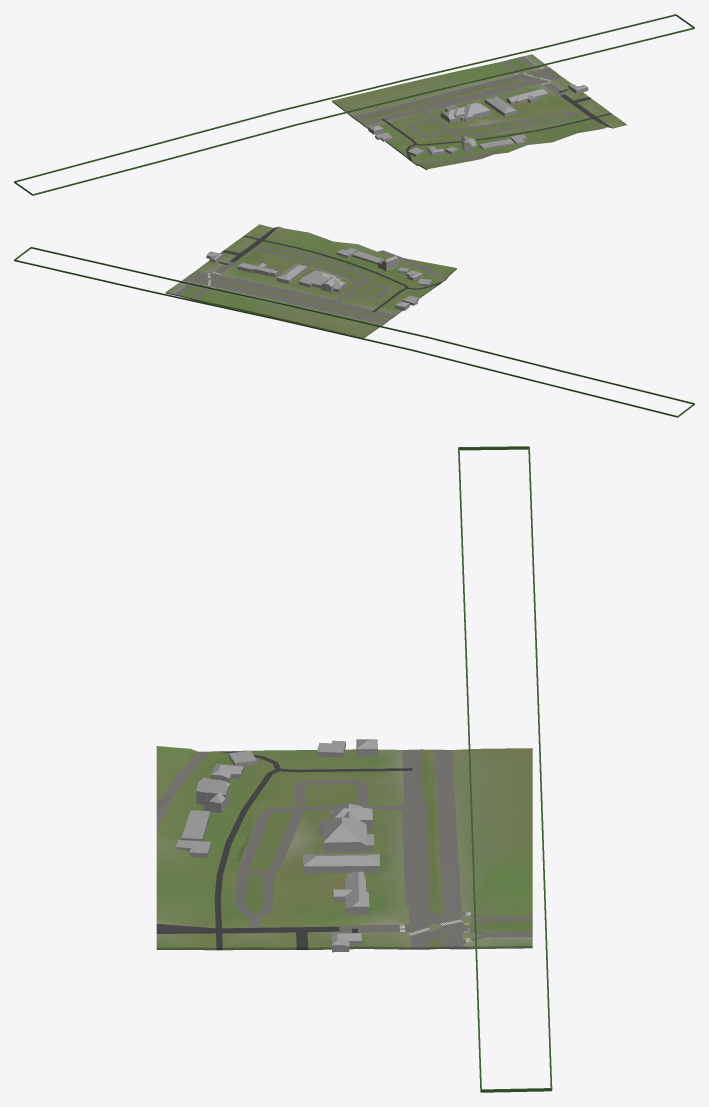
3 views of the same model, one above another, from view 1: azimuth 30°, elevation 25°; view 2: azimuth 150°, elevation 25°; view 3: azimuth 270°, elevation 25° (orthographic). The views are drawn at different scales.
Parts seen in each view (by area): view 1: D-0-4.L0:utd:matte, D-0-4.L0:utd:matte:flat; view 2: D-0-4.L0:utd:matte, D-0-4.L0:utd:matte:flat; view 3: D-0-4.L0:utd:matte, D-0-4.L0:utd:matte:flat.
Part boxes in pixels (x1,y1,x2,y2): D-0-4.L0:utd:matte: [332, 54, 626, 170]; D-0-4.L0:utd:matte:flat: [14, 14, 694, 195]; D-0-4.L0:utd:matte: [165, 224, 456, 338]; D-0-4.L0:utd:matte:flat: [14, 247, 694, 417]; D-0-4.L0:utd:matte: [156, 746, 532, 950]; D-0-4.L0:utd:matte:flat: [175, 446, 552, 1092].
Bounding box in the file's own units: 855 × 17.61 × 222.
